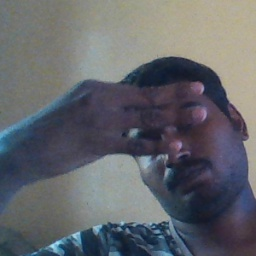K: (12, 78, 205, 168)
